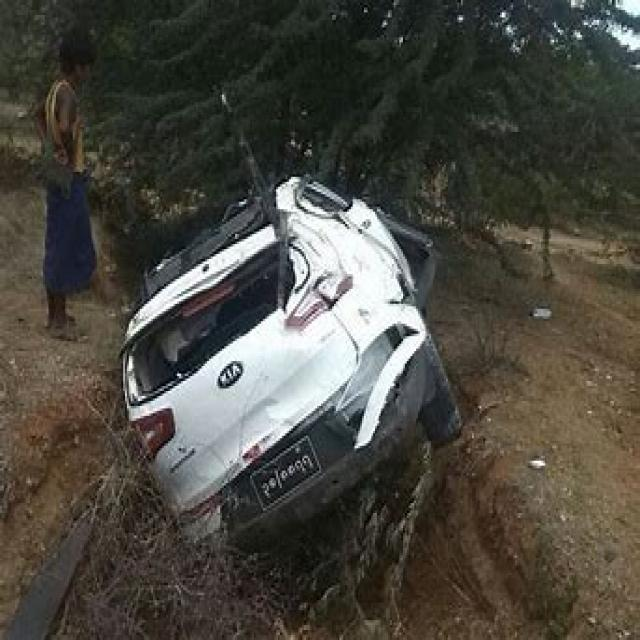Accident: (51, 102, 514, 564)
